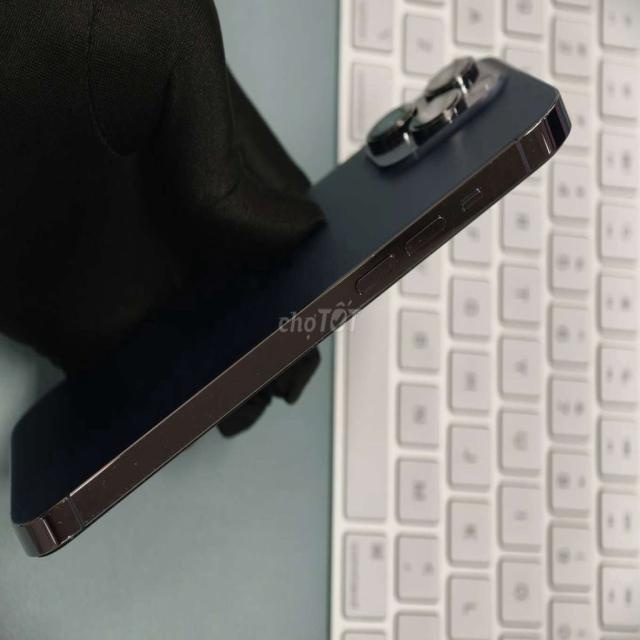scratch: (43, 465, 150, 531), (354, 238, 383, 267)
